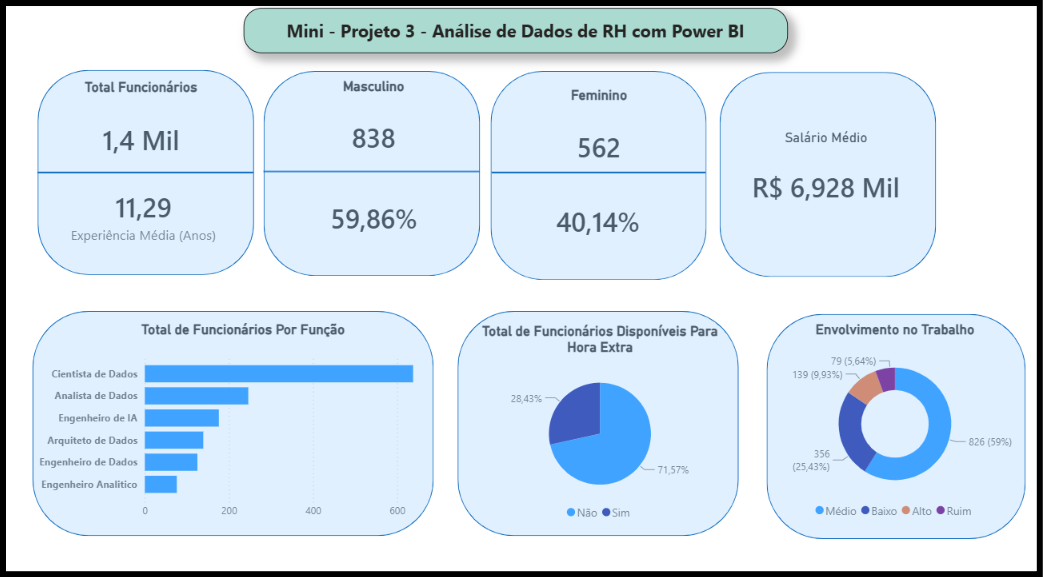

The page's visual inventory and layout, read from the dashboard file:
{"tool":"powerbi","page":{"name":"Página 1","canvas":[1280,720],"ordinal":0},"visuals":[{"type":"textbox","box":[196.9,0,665.2,55],"z":0},{"type":"cardVisual","title":"Total Funcionários","fields":{"Data":["Medidas.TotalFunc"]},"box":[41.6,92.9,260.5,116.7],"z":1000},{"type":"cardVisual","title":"Feminino","fields":{"Data":["Medidas.TotalFeminino"]},"box":[601.6,102.7,260.5,114.9],"z":2000},{"type":"cardVisual","title":"Masculino","fields":{"Data":["Medidas.TotalMasculino"]},"box":[326.7,91.2,259.2,113],"z":3000},{"type":"cardVisual","fields":{"Data":["Medidas.% Masculino"]},"box":[326.7,206.4,260.5,110.1],"z":4000},{"type":"cardVisual","fields":{"Data":["Medidas.% Feminino"]},"box":[600.4,210.3,260.5,110.1],"z":5000},{"type":"cardVisual","title":"Salário Médio","fields":{"Data":["Medidas.MediaSalarial"]},"box":[879.2,154.1,260.5,110.1],"z":6000},{"type":"barChart","title":"Total de Funcionários Por Função","fields":{"Category":["DatasetRH.Funcao"],"Y":["Medidas.TotalFunc"]},"box":[9.8,461,509.9,250.7],"z":7000},{"type":"pieChart","title":"Total de Funcionários Disponíveis Para Hora Extra","fields":{"Y":["Medidas.TotalFunc"],"Category":["DatasetRH.Disponivel_Hora_Extra"]},"box":[519.7,469.6,331.4,250.7],"z":8000},{"type":"donutChart","title":"Envolvimento no Trabalho","fields":{"Y":["Medidas.TotalFunc"],"Category":["DatasetRH.Envolvimento_Trabalho"]},"box":[879.2,450,326.5,250.7],"z":9000},{"type":"cardVisual","fields":{"Data":["Avg(DatasetRH.Anos_Experiencia)"]},"box":[52.1,196.1,244.6,130.8],"z":10000},{"type":"shape","box":[45.2,84.4,264.6,250.7],"z":11000},{"type":"shape","box":[45.2,79.5,263.6,250.7],"z":12000},{"type":"shape","box":[326.5,84.4,264.1,250.7],"z":13000},{"type":"shape","box":[879.2,84.4,264.6,250.7],"z":14000},{"type":"shape","box":[599.2,83.2,264.1,255.6],"z":15000},{"type":"shape","box":[326.5,84.4,264.6,250.7],"z":16000},{"type":"shape","box":[0,445.1,490.4,275.1],"z":17000},{"type":"shape","box":[601.6,58.7,261.7,299.6],"z":18000},{"type":"shape","box":[884.1,445.1,316.7,275.1],"z":19000},{"type":"shape","box":[514.8,445.1,343.6,275.1],"z":20000}]}

Visuals, with their boxes in screenshot pixels (x1, y1, x2, y2), scaled from the page's 1280x720 canvas onto the 1043x577 screenshot:
textbox: bbox(160, 0, 702, 44)
"Total Funcionários" cardVisual: bbox(34, 74, 246, 168)
"Feminino" cardVisual: bbox(490, 82, 702, 174)
"Masculino" cardVisual: bbox(266, 73, 477, 164)
cardVisual - Medidas.% Masculino: bbox(266, 165, 478, 254)
cardVisual - Medidas.% Feminino: bbox(489, 169, 701, 257)
"Salário Médio" cardVisual: bbox(716, 123, 929, 212)
"Total de Funcionários Por Função" barChart: bbox(8, 369, 423, 570)
"Total de Funcionários Disponíveis Para Hora Extra" pieChart: bbox(423, 376, 694, 576)
"Envolvimento no Trabalho" donutChart: bbox(716, 361, 982, 562)
cardVisual - Avg(DatasetRH.Anos_Experiencia): bbox(42, 157, 242, 262)
shape: bbox(37, 68, 252, 269)
shape: bbox(37, 64, 252, 265)
shape: bbox(266, 68, 481, 269)
shape: bbox(716, 68, 932, 269)
shape: bbox(488, 67, 703, 272)
shape: bbox(266, 68, 482, 269)
shape: bbox(0, 357, 400, 576)
shape: bbox(490, 47, 703, 287)
shape: bbox(720, 357, 978, 576)
shape: bbox(419, 357, 699, 576)
